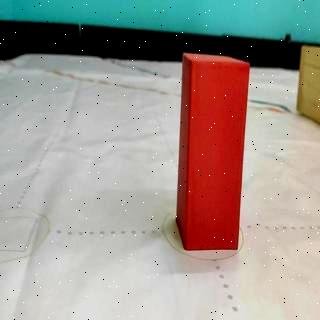redbox: (177, 54, 249, 248)
